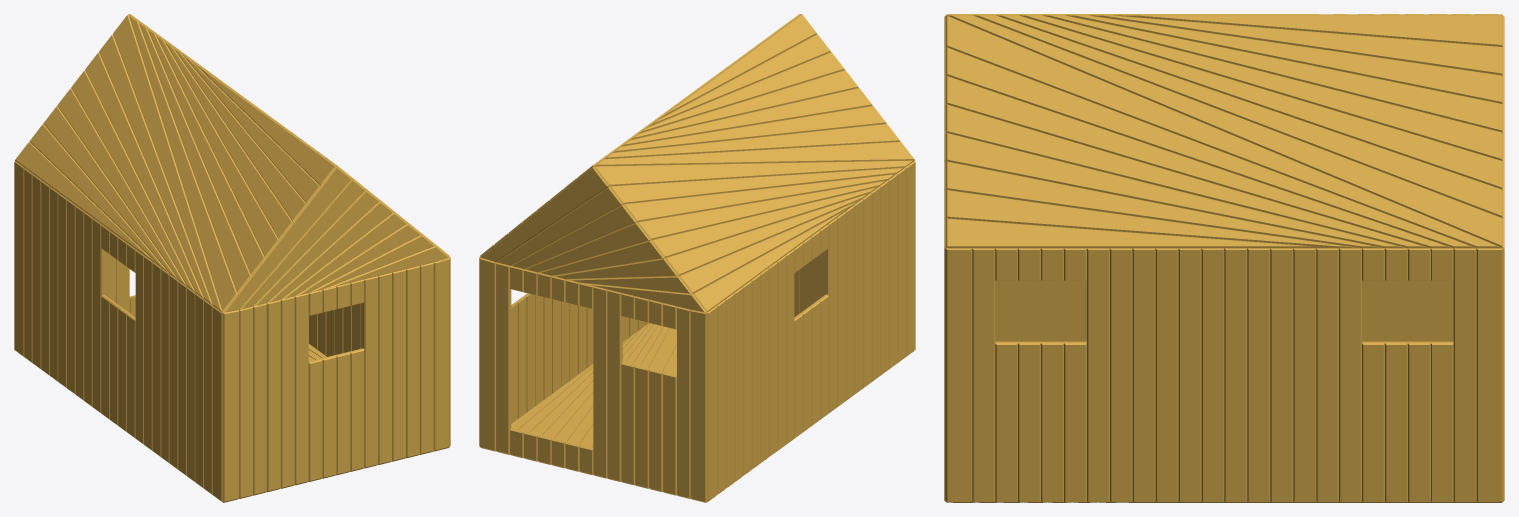
File: cabin8-var3.glb
The picture shows the model from 3 angles, left to right: view 1: azimuth 30°, elevation 25°; view 2: azimuth 150°, elevation 25°; view 3: azimuth 270°, elevation 25°; orthographic projection. The views are drawn at different scales.
Visible parts, largest first — view 1: Cube1; view 2: Cube1; view 3: Cube1.
Part boxes in pixels (x1,y1,x2,y2): Cube1: (14,14,450,502); Cube1: (479,14,915,502); Cube1: (944,14,1504,502).
Size of the model in its own units: 8.24 by 10.64 by 13.04.
